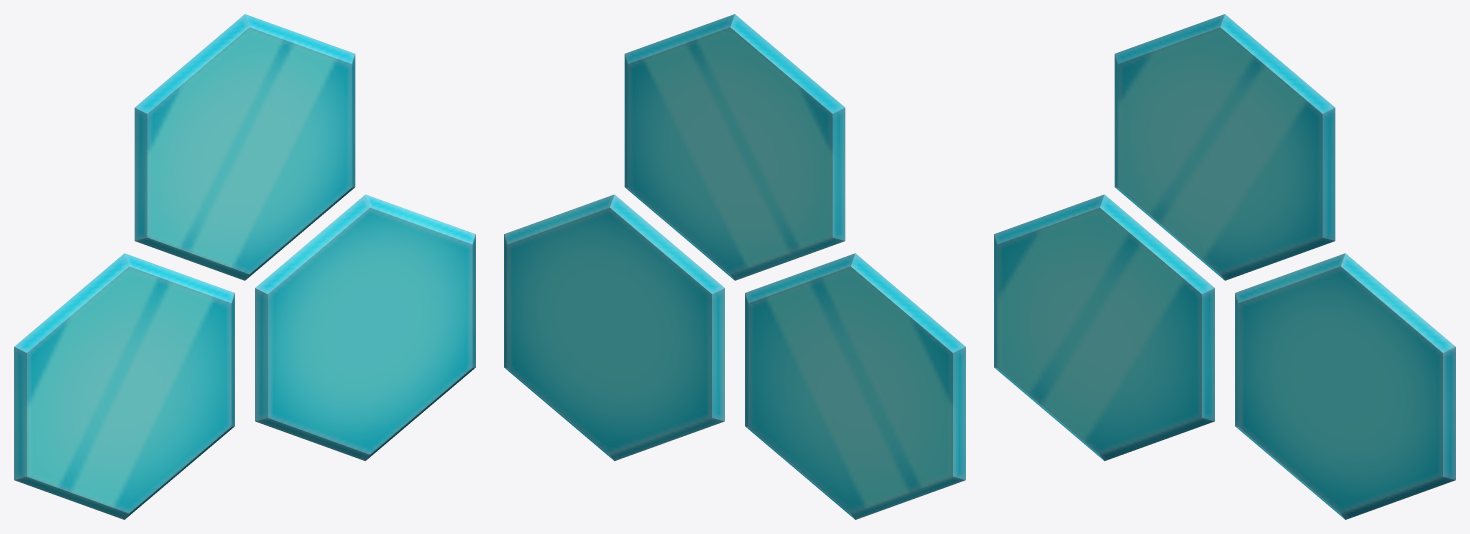
Rendered from Obstacle_01.fbx.
The picture shows the model from 3 angles, left to right: view 1: azimuth 30°, elevation 25°; view 2: azimuth 150°, elevation 25°; view 3: azimuth 330°, elevation 25°; orthographic projection.
Parts seen in each view (by area): view 1: Obstacle_01; view 2: Obstacle_01; view 3: Obstacle_01.
Boxes of the visible parts, box(x1,y1,x2,y2) form: Obstacle_01: box(14, 14, 475, 519); Obstacle_01: box(504, 14, 965, 519); Obstacle_01: box(994, 14, 1455, 519).
Bounding box in the file's own units: 5.43 × 5.35 × 0.1901.
Materials: 1 (1 with a texture image).
